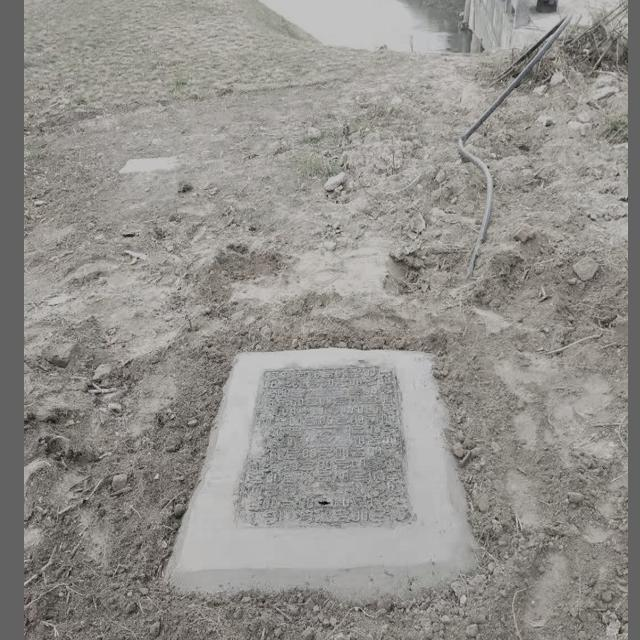good: (229, 361, 418, 533)
